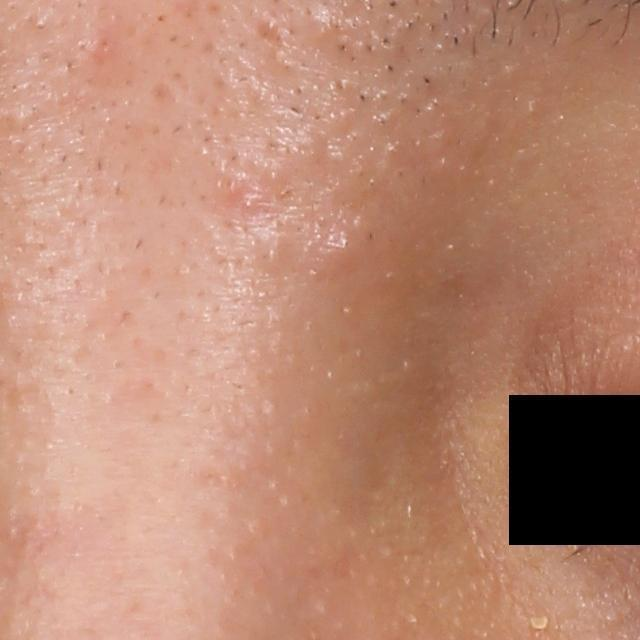comedo: (324, 230, 359, 269), (257, 237, 285, 274)
